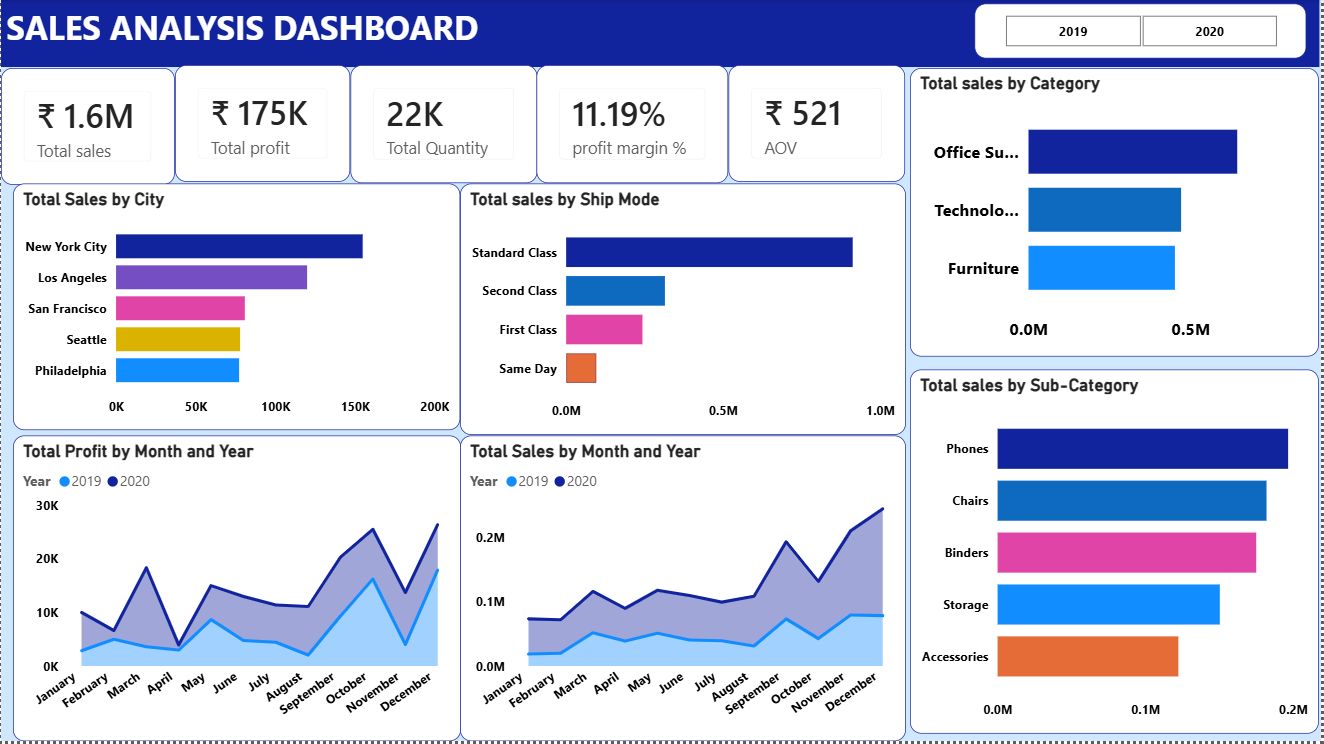

What the dashboard file says about the page in this screenshot:
{"tool":"powerbi","page":{"name":"Page 1","canvas":[1280,720],"ordinal":0},"visuals":[{"type":"clusteredBarChart","fields":{"Category":["SuperStore_Sales_Dataset.Category"],"Y":["Sum(SuperStore_Sales_Dataset.Sales)"]},"box":[882.5,66.4,396.7,280.1],"z":0},{"type":"clusteredBarChart","fields":{"Y":["Sum(SuperStore_Sales_Dataset.Sales)"],"Category":["SuperStore_Sales_Dataset.Sub-Category"]},"box":[882.5,359.1,396.9,353.4],"z":1000},{"type":"textbox","box":[0,0,1279.4,66.1],"z":2000},{"type":"cardVisual","fields":{"Data":["Sum(SuperStore_Sales_Dataset.Sales)"]},"box":[0,66.4,168.4,113.3],"z":3000},{"type":"cardVisual","fields":{"Data":["Sum(SuperStore_Sales_Dataset.Profit)"]},"box":[168.4,64.8,170,113.3],"z":4000},{"type":"cardVisual","fields":{"Data":["Sum(SuperStore_Sales_Dataset.Quantity)"]},"box":[338.4,64.8,181.4,115],"z":5000},{"type":"clusteredBarChart","fields":{"Y":["Sum(SuperStore_Sales_Dataset.Sales)"],"Category":["SuperStore_Sales_Dataset.Ship Mode"]},"box":[446,179.5,432.8,243.8],"z":6000},{"type":"stackedAreaChart","fields":{"Y":["Sum(SuperStore_Sales_Dataset.Sales)"],"Category":["SuperStore_Sales_Dataset.Order Date.Variation.Date Hierarchy.Month"],"Series":["SuperStore_Sales_Dataset.Order Date.Variation.Date Hierarchy.Year"]},"box":[446,423.3,432.8,296.7],"z":7000},{"type":"stackedAreaChart","fields":{"Category":["SuperStore_Sales_Dataset.Order Date.Variation.Date Hierarchy.Month"],"Series":["SuperStore_Sales_Dataset.Order Date.Variation.Date Hierarchy.Year"],"Y":["Sum(SuperStore_Sales_Dataset.Profit)"]},"box":[11.3,423.3,434.6,296.7],"z":8000},{"type":"clusteredBarChart","fields":{"Category":["SuperStore_Sales_Dataset.City"],"Y":["Sum(SuperStore_Sales_Dataset.Sales)"]},"box":[11.3,179.7,434,239.6],"z":9000},{"type":"slicer","fields":{"Values":["SuperStore_Sales_Dataset.Order Date.Variation.Date Hierarchy.Year"]},"box":[944,4.9,322.2,53.4],"z":10000},{"type":"cardVisual","fields":{"Data":["SuperStore_Sales_Dataset.profit margin %"]},"box":[519.8,64.8,186.2,115],"z":11000},{"type":"cardVisual","fields":{"Data":["SuperStore_Sales_Dataset.AOV"]},"box":[706,64.8,171.6,113.3],"z":12000}]}

Visuals, with their boxes in screenshot pixels (x1, y1, x2, y2), scaled from the page's 1280x720 canvas onto the 1324x744 screenshot:
clusteredBarChart - SuperStore_Sales_Dataset.Category x Sum(SuperStore_Sales_Dataset.Sales): 913, 69, 1323, 358
clusteredBarChart - Sum(SuperStore_Sales_Dataset.Sales) x SuperStore_Sales_Dataset.Sub-Category: 913, 371, 1323, 736
textbox: 0, 0, 1323, 68
cardVisual - Sum(SuperStore_Sales_Dataset.Sales): 0, 69, 174, 186
cardVisual - Sum(SuperStore_Sales_Dataset.Profit): 174, 67, 350, 184
cardVisual - Sum(SuperStore_Sales_Dataset.Quantity): 350, 67, 538, 186
clusteredBarChart - Sum(SuperStore_Sales_Dataset.Sales) x SuperStore_Sales_Dataset.Ship Mode: 461, 185, 909, 437
stackedAreaChart - Sum(SuperStore_Sales_Dataset.Sales) x SuperStore_Sales_Dataset.Order Date.Variation.Date Hierarchy.Month: 461, 437, 909, 743
stackedAreaChart - SuperStore_Sales_Dataset.Order Date.Variation.Date Hierarchy.Month x SuperStore_Sales_Dataset.Order Date.Variation.Date Hierarchy.Year: 12, 437, 461, 743
clusteredBarChart - SuperStore_Sales_Dataset.City x Sum(SuperStore_Sales_Dataset.Sales): 12, 186, 461, 433
slicer - SuperStore_Sales_Dataset.Order Date.Variation.Date Hierarchy.Year: 976, 5, 1310, 60
cardVisual - SuperStore_Sales_Dataset.profit margin %: 538, 67, 730, 186
cardVisual - SuperStore_Sales_Dataset.AOV: 730, 67, 908, 184
